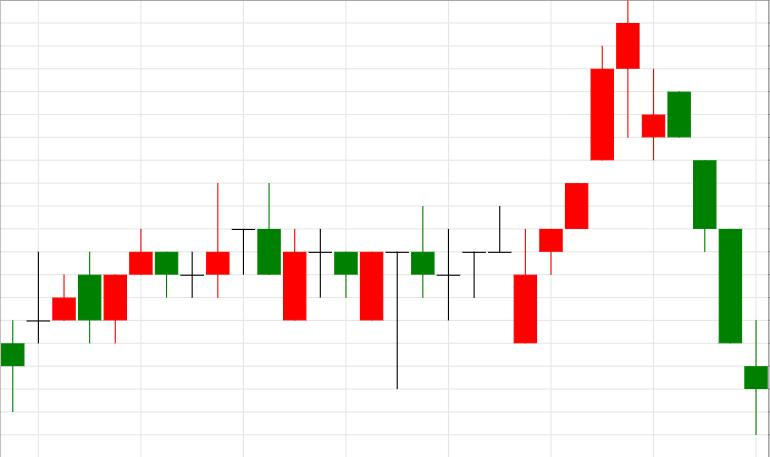three_black_crows_fall: (514, 0, 743, 343)
